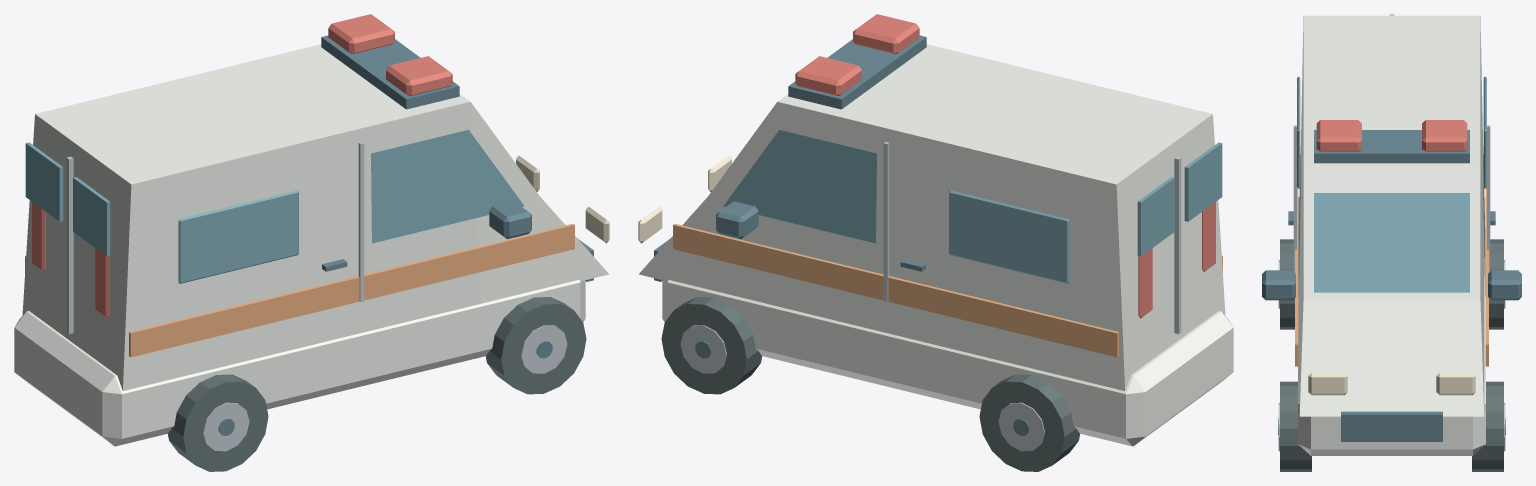
Rendered from ambulance.glb.
3 renders of one model, left to right at view 1: azimuth 30°, elevation 25°; view 2: azimuth 150°, elevation 25°; view 3: azimuth 270°, elevation 25°, orthographic. The views are drawn at different scales.
Visible parts, largest first — view 1: ambulance_white; view 2: ambulance_white; view 3: ambulance_white.
Part boxes in pixels (left/top/right/bottom): ambulance_white: left=14, top=14, right=609, bottom=471; ambulance_white: left=638, top=14, right=1233, bottom=471; ambulance_white: left=1262, top=14, right=1521, bottom=471.
Size of the model in its own units: 2.86 by 1.75 by 1.38.
Materials: 1 (1 with a texture image).
